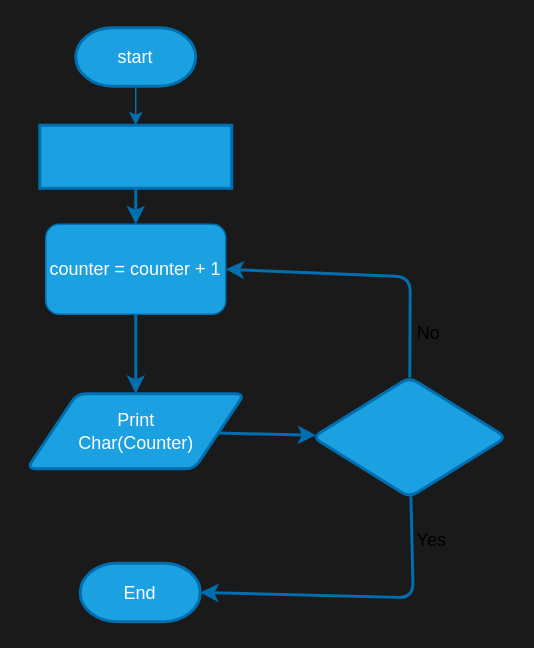
The diagram is 534 pixels wide and 648 high, and some of its shapes have lost their labels. The centre of each missing label's shape, as x and y in pixels:
"Counter = 64" goes at (135,156).
"counter = 90" goes at (408,436).
